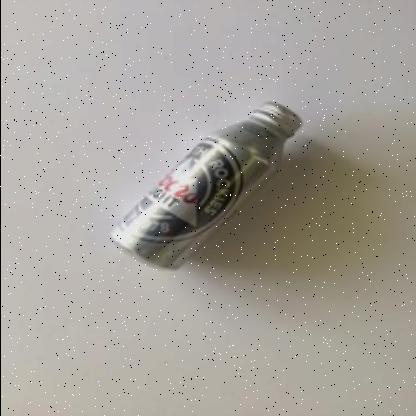Can: (108, 102, 302, 272)
